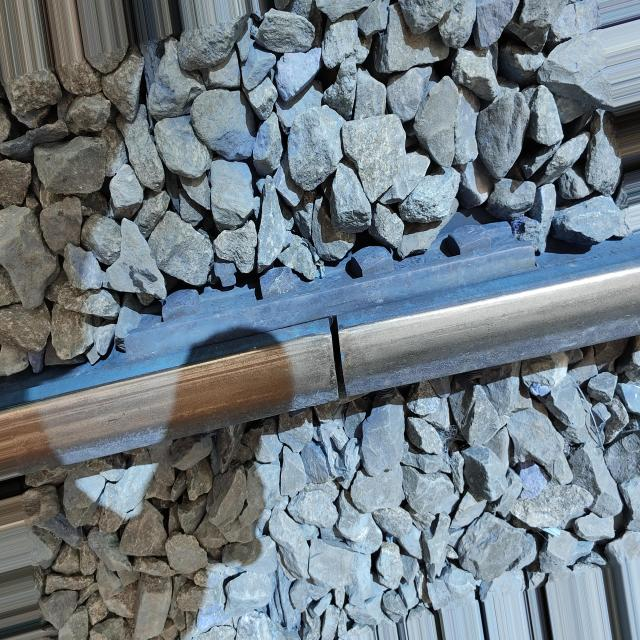crack: (311, 295, 359, 413)
